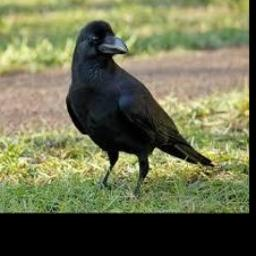Crow: (67, 19, 214, 196)
